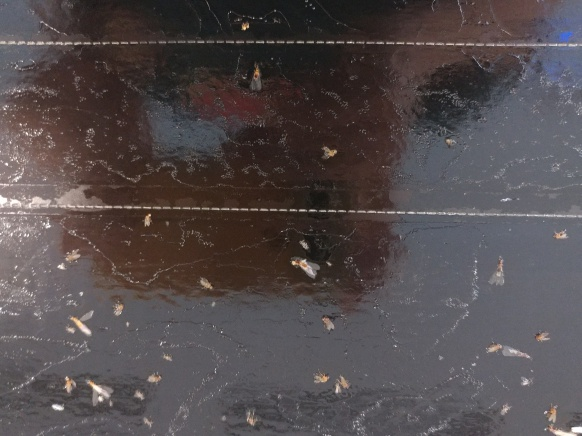flying termite: (82, 374, 114, 409), (285, 254, 323, 280), (65, 310, 100, 338), (484, 341, 532, 361), (247, 60, 266, 92)
